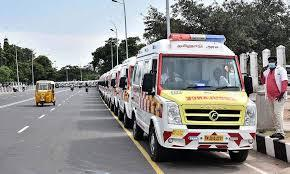ER: (132, 35, 255, 166), (120, 56, 137, 130)
